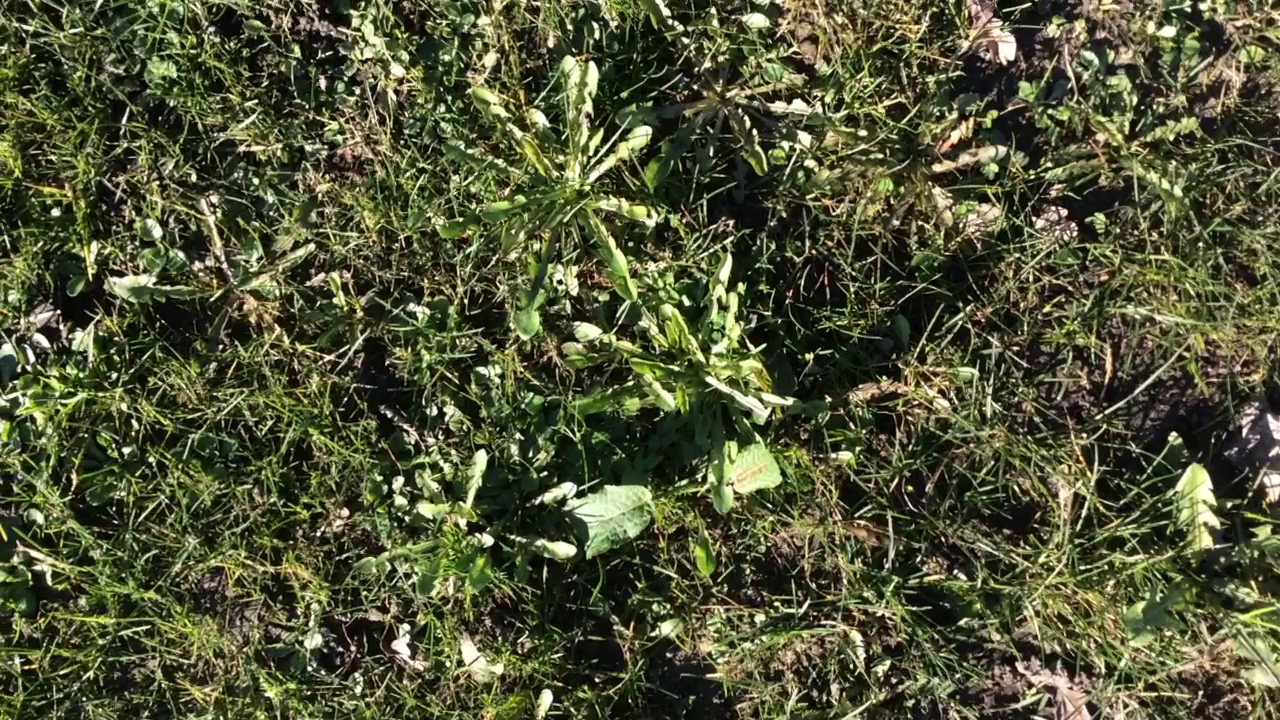rumex: (543, 485, 653, 554), (718, 444, 782, 494)
